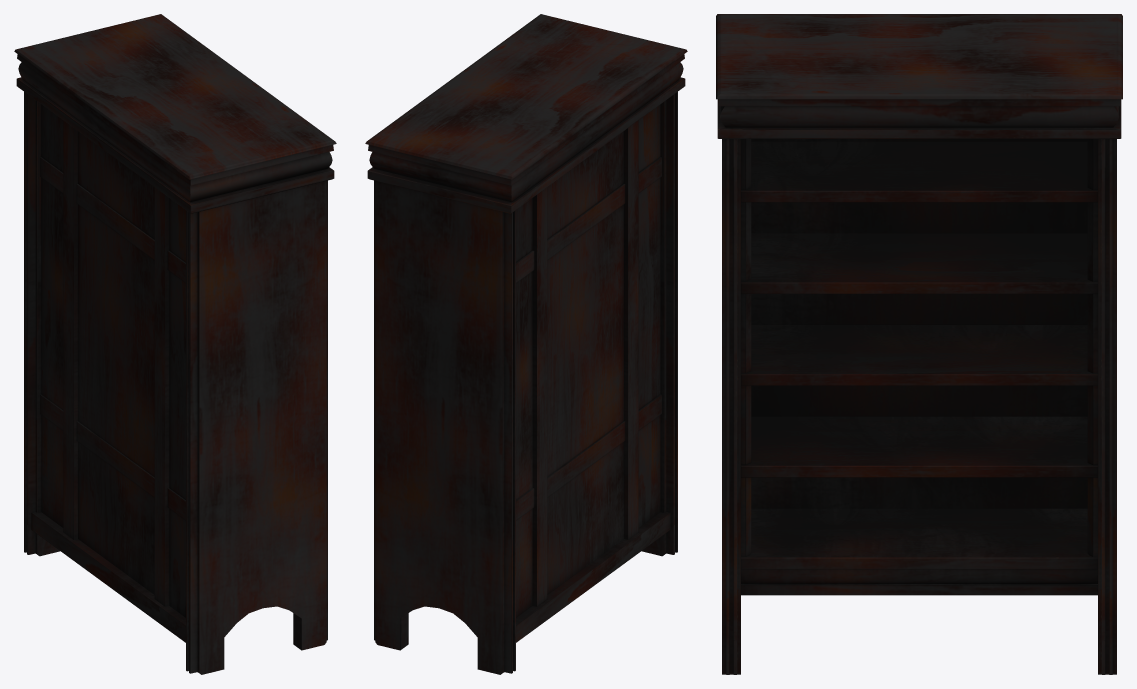
The model's file is estante.glb.
3 views of the same model, side by side, from view 1: azimuth 30°, elevation 25°; view 2: azimuth 150°, elevation 25°; view 3: azimuth 270°, elevation 25° (orthographic). The views are drawn at different scales.
Visible parts, largest first — view 1: Book-Shelf-01_0; view 2: Book-Shelf-01_0; view 3: Book-Shelf-01_0.
Boxes of the visible parts, bbox=[...] form: Book-Shelf-01_0: bbox=[14, 14, 336, 674]; Book-Shelf-01_0: bbox=[365, 14, 687, 674]; Book-Shelf-01_0: bbox=[716, 14, 1122, 674].
Size of the model in its own units: 1.02 by 3.33 by 2.1.
1 material, 1 textured.
